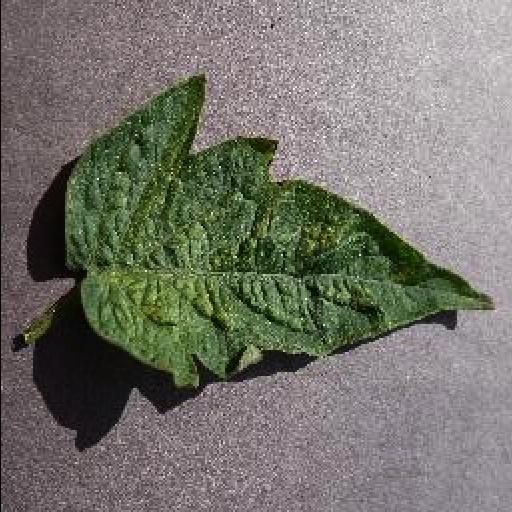disease_tomato: (62, 72, 494, 390)
